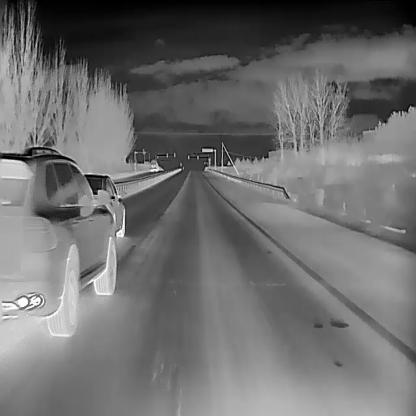car: (0, 145, 116, 335), (80, 173, 127, 237)
truck: (149, 157, 158, 171)
